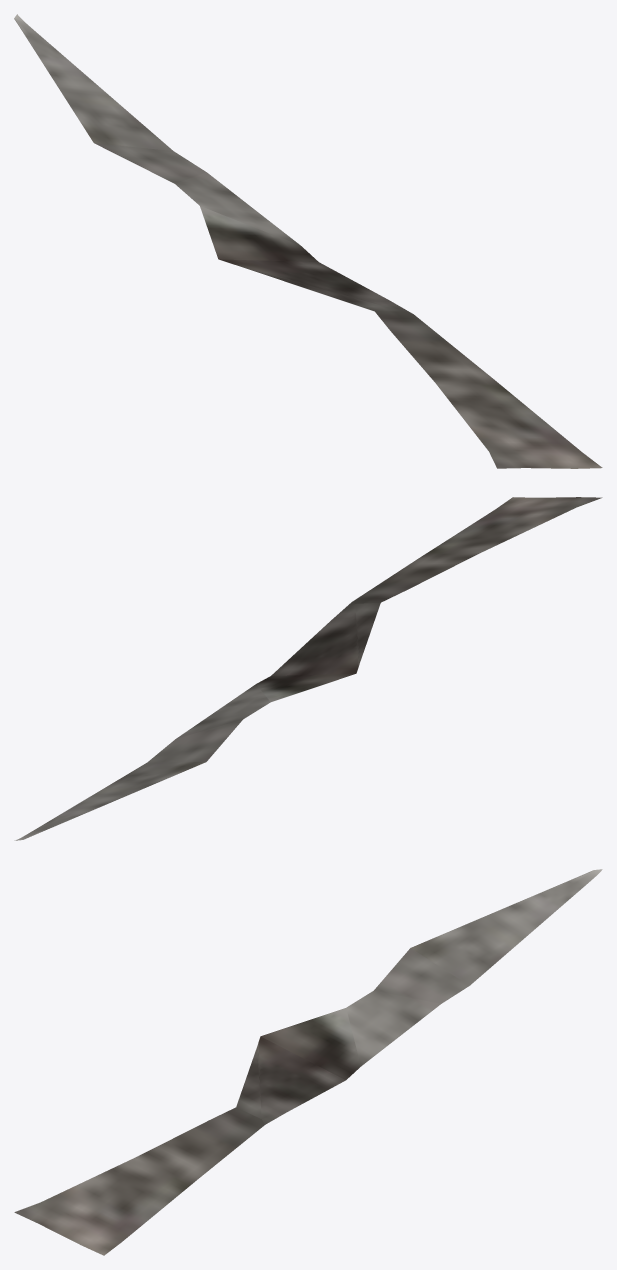
The picture shows the model from 3 angles, top to bottom: view 1: azimuth 30°, elevation 25°; view 2: azimuth 150°, elevation 25°; view 3: azimuth 330°, elevation 25°; orthographic projection. The views are drawn at different scales.
Size of the model in its own units: 0.0592 by 0.0145 by 0.5674.
Materials: 1 (1 with a texture image).
